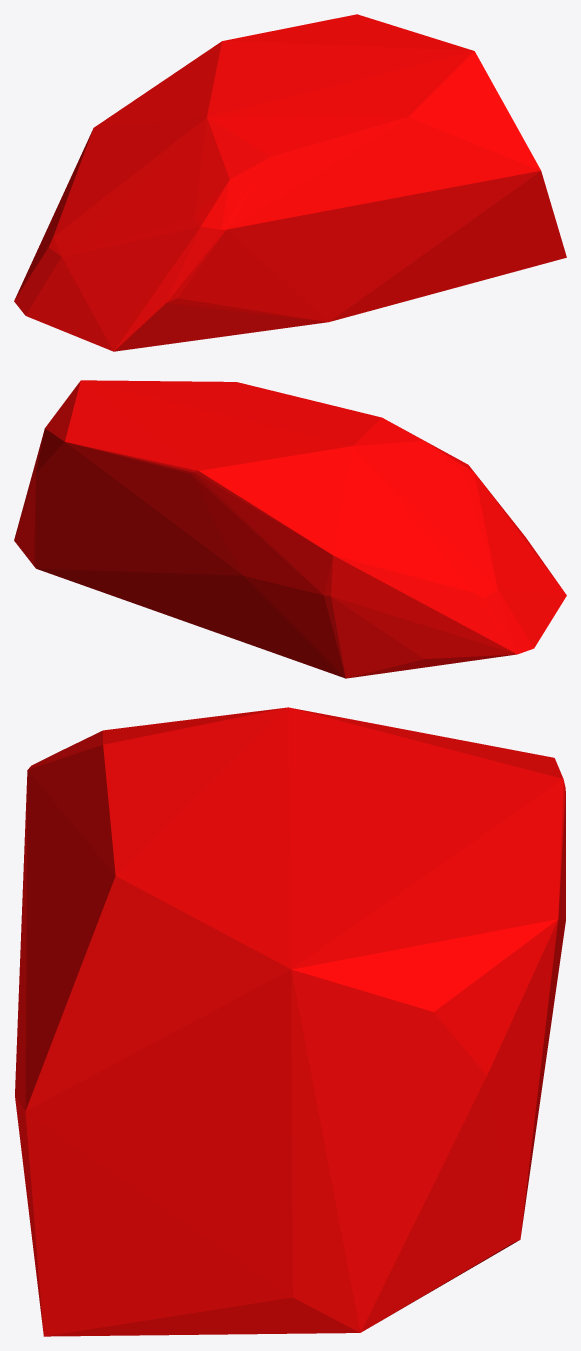
Rendered from tip_006_2_convex_hull_03.obj.
3 views of the same model, one above another, from view 1: azimuth 30°, elevation 25°; view 2: azimuth 150°, elevation 25°; view 3: azimuth 270°, elevation 25° (orthographic). The views are drawn at different scales.
Visible parts, largest first — view 1: tip_006_2_convex_hull_03; view 2: tip_006_2_convex_hull_03; view 3: tip_006_2_convex_hull_03.
Boxes of the visible parts, x1,y1,x2,y2 form: tip_006_2_convex_hull_03: (14,14,566,351); tip_006_2_convex_hull_03: (14,380,566,678); tip_006_2_convex_hull_03: (15,707,565,1336).
Size of the model in its own units: 0.00413 by 0.0014 by 0.00198.
